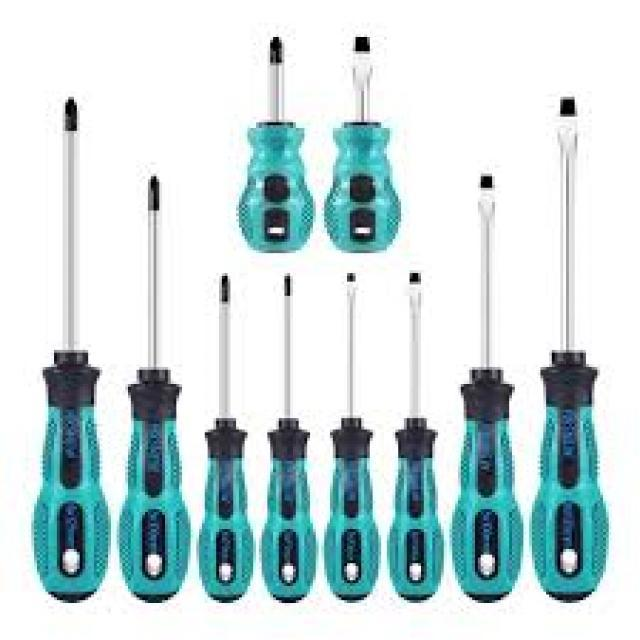screwdriver: (525, 92, 613, 608), (28, 92, 114, 608), (449, 168, 526, 606), (115, 170, 192, 604), (321, 264, 384, 606), (195, 264, 258, 606), (384, 268, 447, 604), (256, 274, 319, 604), (317, 32, 403, 258), (238, 31, 314, 253)
